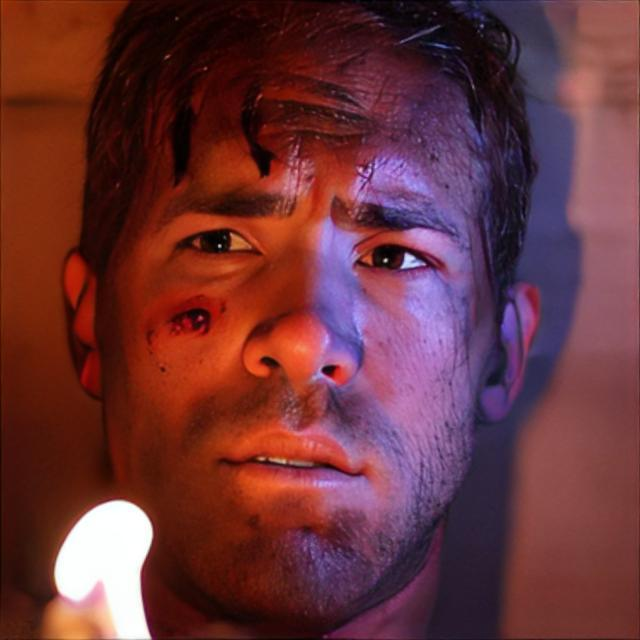sad: (108, 33, 491, 604)
